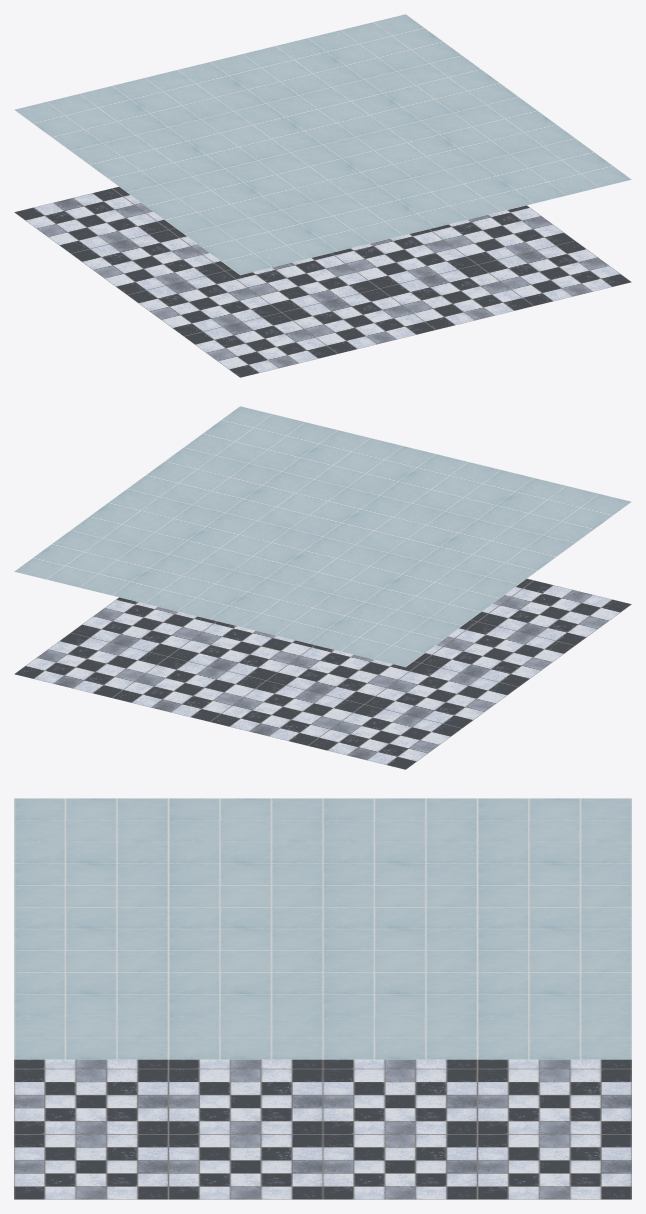
File: TileFloorCeilPlane.fbx
3 renders of one model, top to bottom at view 1: azimuth 30°, elevation 25°; view 2: azimuth 150°, elevation 25°; view 3: azimuth 270°, elevation 25°, orthographic. The views are drawn at different scales.
Parts seen in each view (by area): view 1: TileFloorCeilPlane; view 2: TileFloorCeilPlane; view 3: TileFloorCeilPlane.
Boxes of the visible parts, x1=… form: TileFloorCeilPlane: x1=14, y1=14, x2=631, y2=377; TileFloorCeilPlane: x1=14, y1=406, x2=631, y2=769; TileFloorCeilPlane: x1=14, y1=798, x2=631, y2=1199.
Size of the model in its own units: 16 by 4 by 16.
